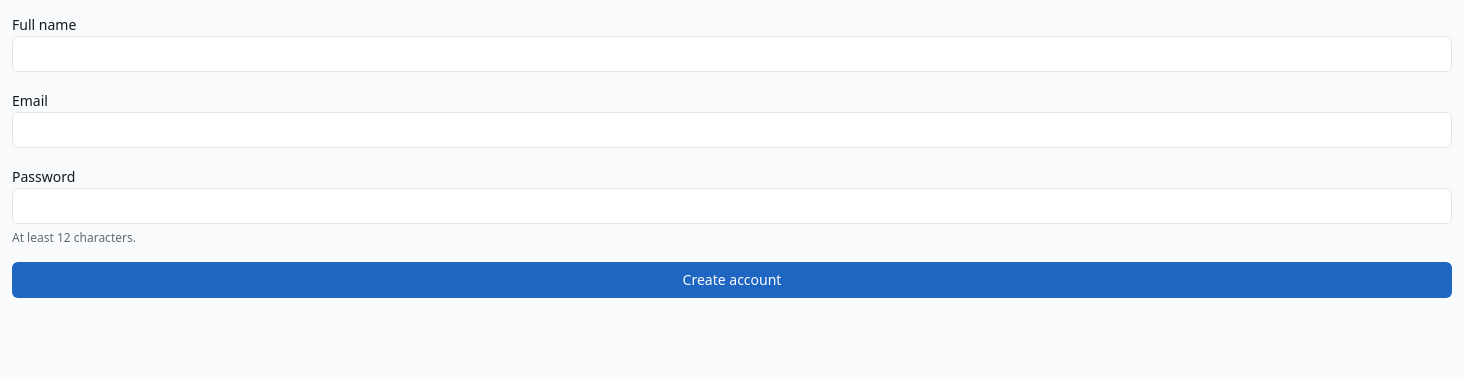
Test: SignupForm › shows the error the API returned
In the field labelled "Full name": (732, 54) [12,36,1452,72], type "Anush Sharma"
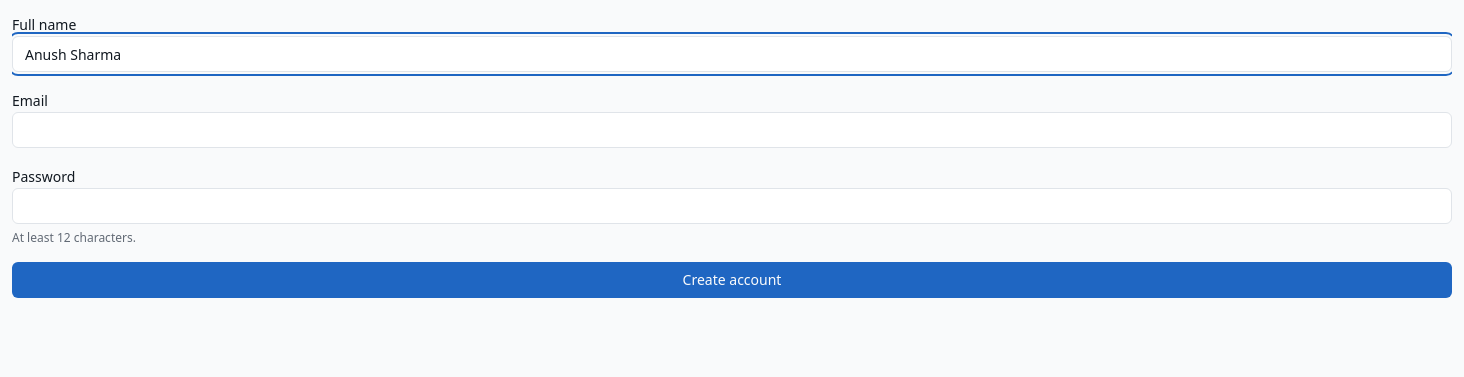
In the field labelled "Email": (732, 130) [12,112,1452,148], type "anush@broadway.test"
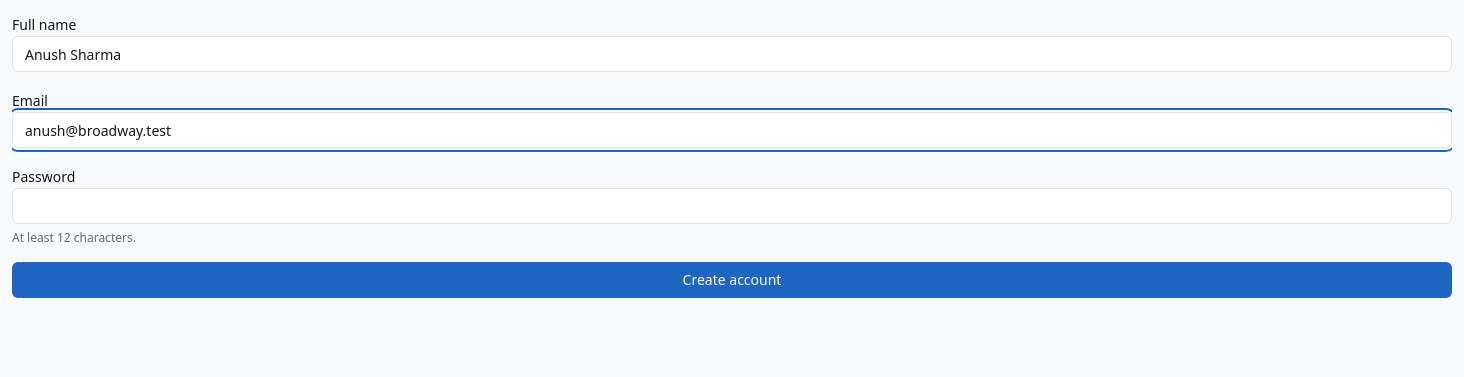
In the password field labelled "Password": (732, 206) [12,188,1452,224], type "correct-horse-battery-staple"
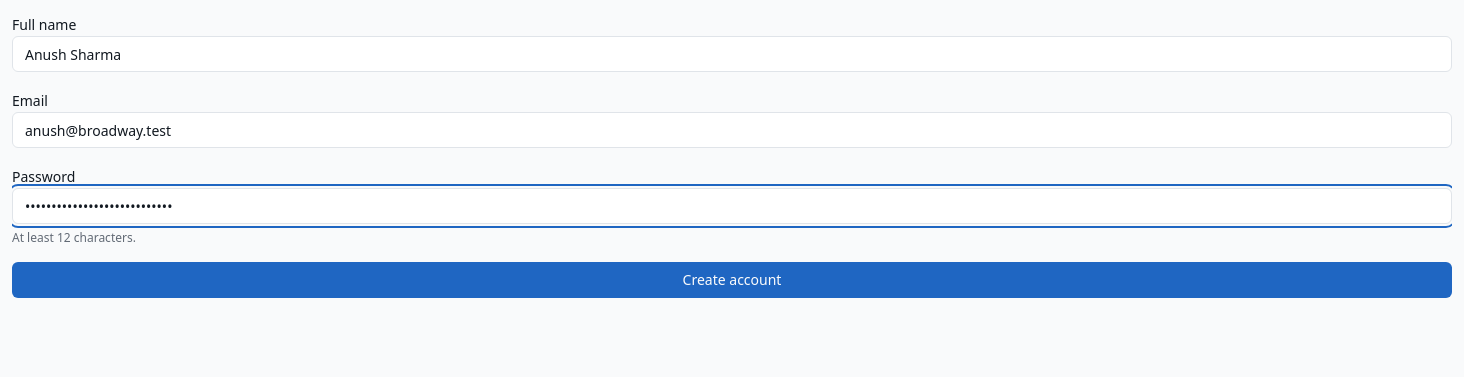
Click the button "Create account": click(732, 280) [12,262,1452,298]
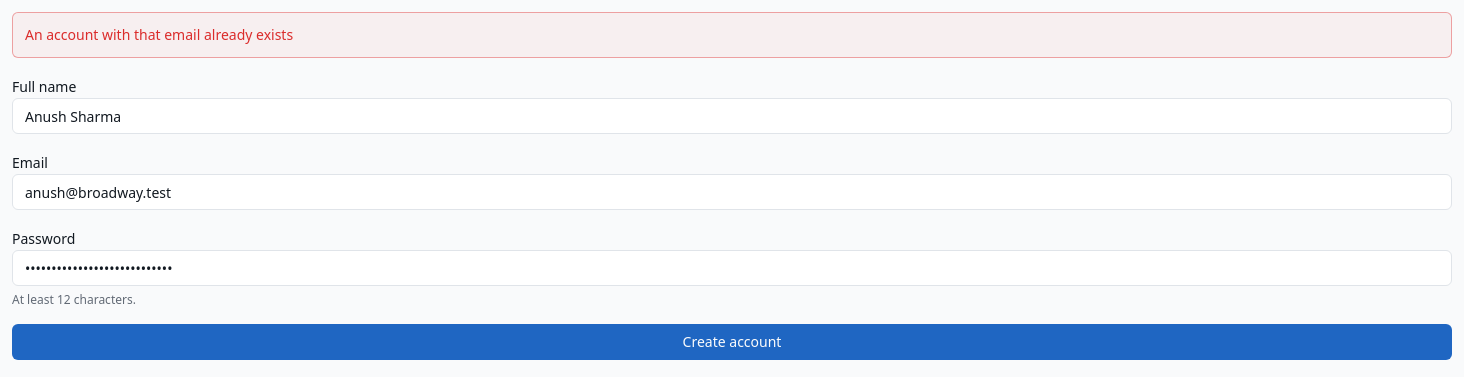
Check: the text "An account with that email already exists" is shown, box [12,12,1452,58]
